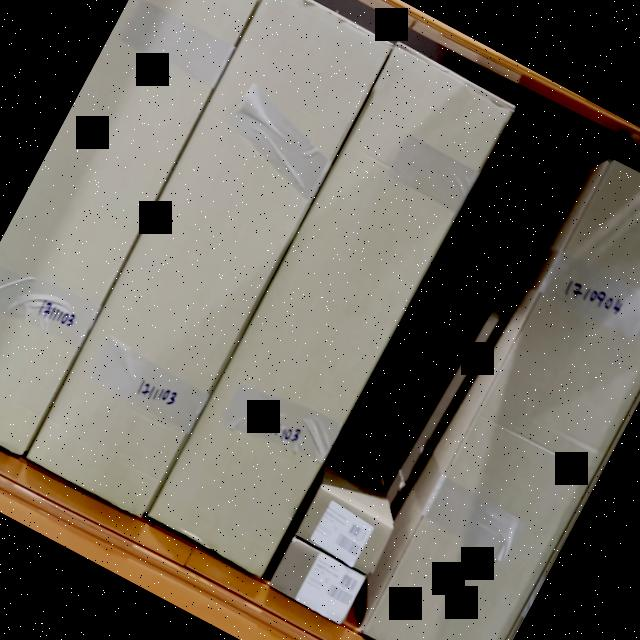box: (145, 46, 510, 577), (27, 0, 391, 517), (360, 160, 640, 640), (0, 0, 272, 454), (268, 539, 365, 624), (296, 490, 391, 573)
